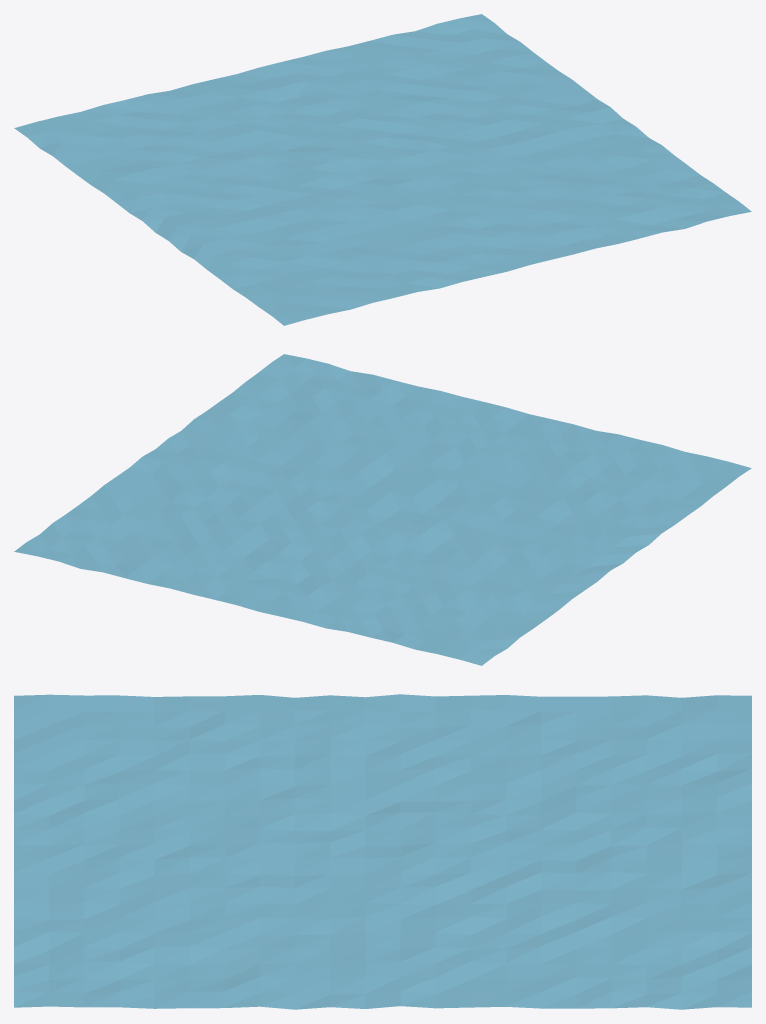
Rendered from terrains-terrain-sea.glb.
3 renders of one model, top to bottom at view 1: azimuth 30°, elevation 25°; view 2: azimuth 150°, elevation 25°; view 3: azimuth 270°, elevation 25°, orthographic. The views are drawn at different scales.
Parts seen in each view (by area): view 1: terrain_sea_01; view 2: terrain_sea_01; view 3: terrain_sea_01.
Boxes of the visible parts, x1,y1,x2,y2 form: terrain_sea_01: (14, 14, 751, 325); terrain_sea_01: (14, 354, 751, 665); terrain_sea_01: (14, 694, 751, 1009).
Bounding box in the file's own units: 20 × 0.1376 × 20.
